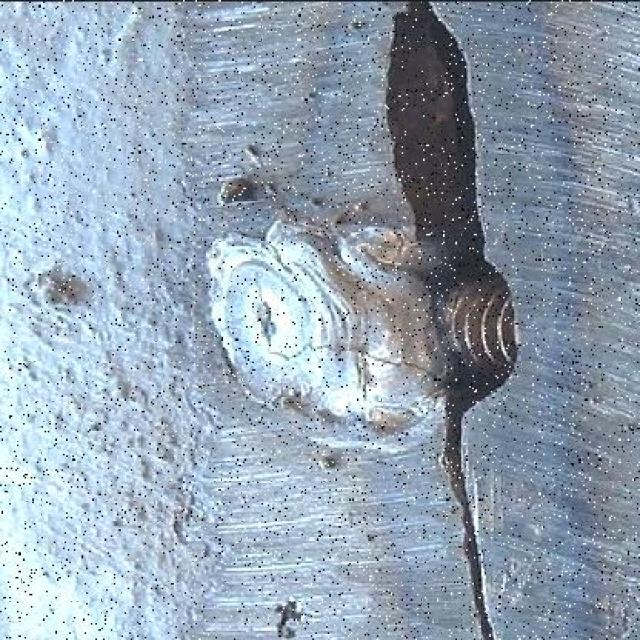Defect: (268, 338, 438, 380), (240, 268, 282, 337)
